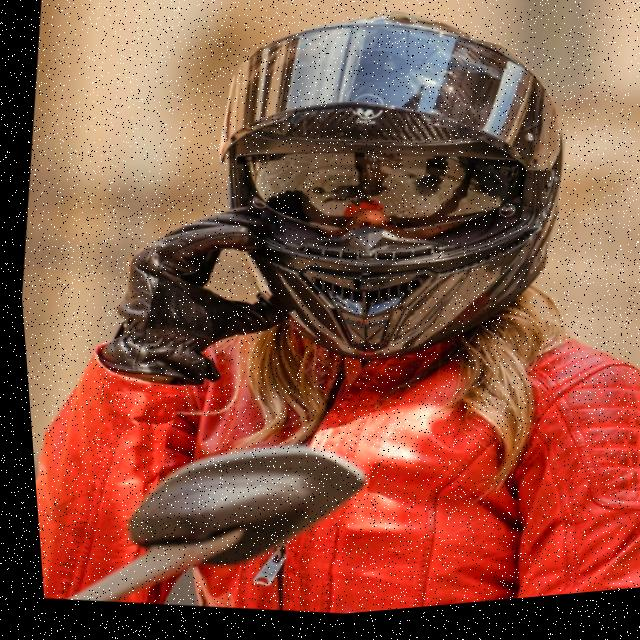helmet: (170, 0, 613, 418)
